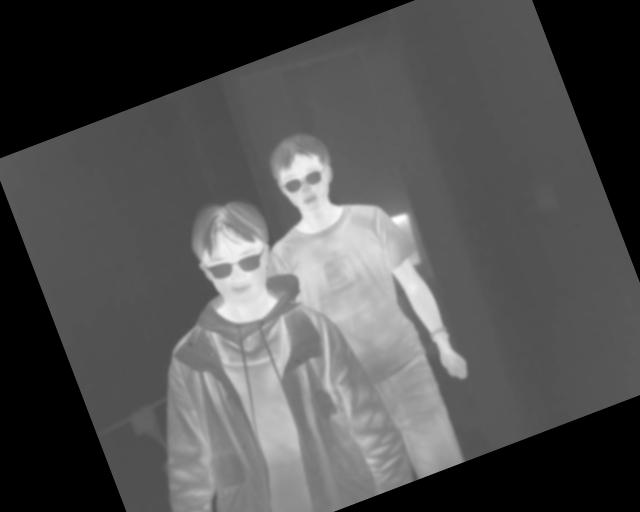face: (179, 186, 292, 314), (260, 124, 347, 223)
